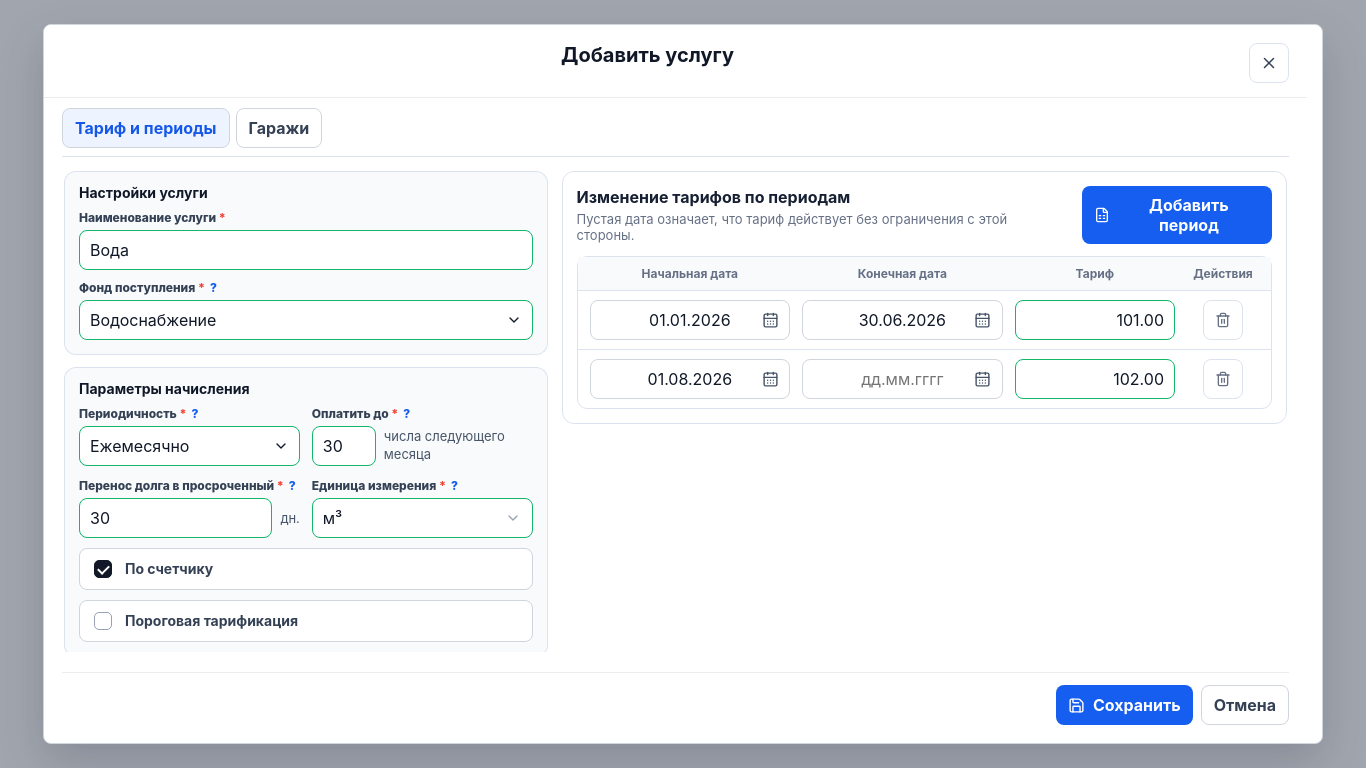
Test: редактор тарифной сетки услуги › показывает интервалы и сохраняет сетку с разрешённым промежутком без отдельного подтверждения
Check: the heading "Изменение тарифов по периодам" is shown, box [577,187,850,207]
Check: the table named "Тарифная сетка услуги" is shown, box [577,256,1272,409]
Click the button "Сохранить". click: [1124, 705]
box: [1056,685,1193,725]
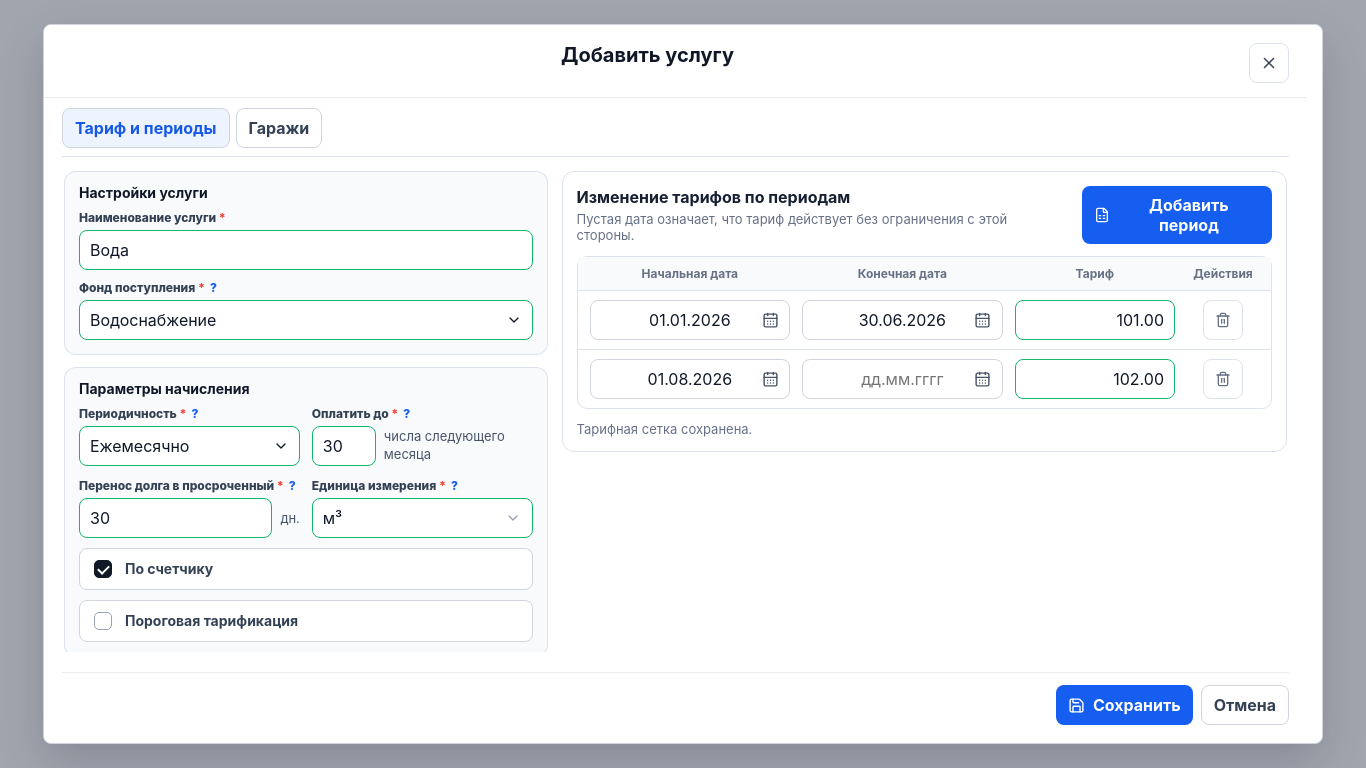
Check: the text "Тарифная сетка сохранена." is shown, box [577,421,752,437]
